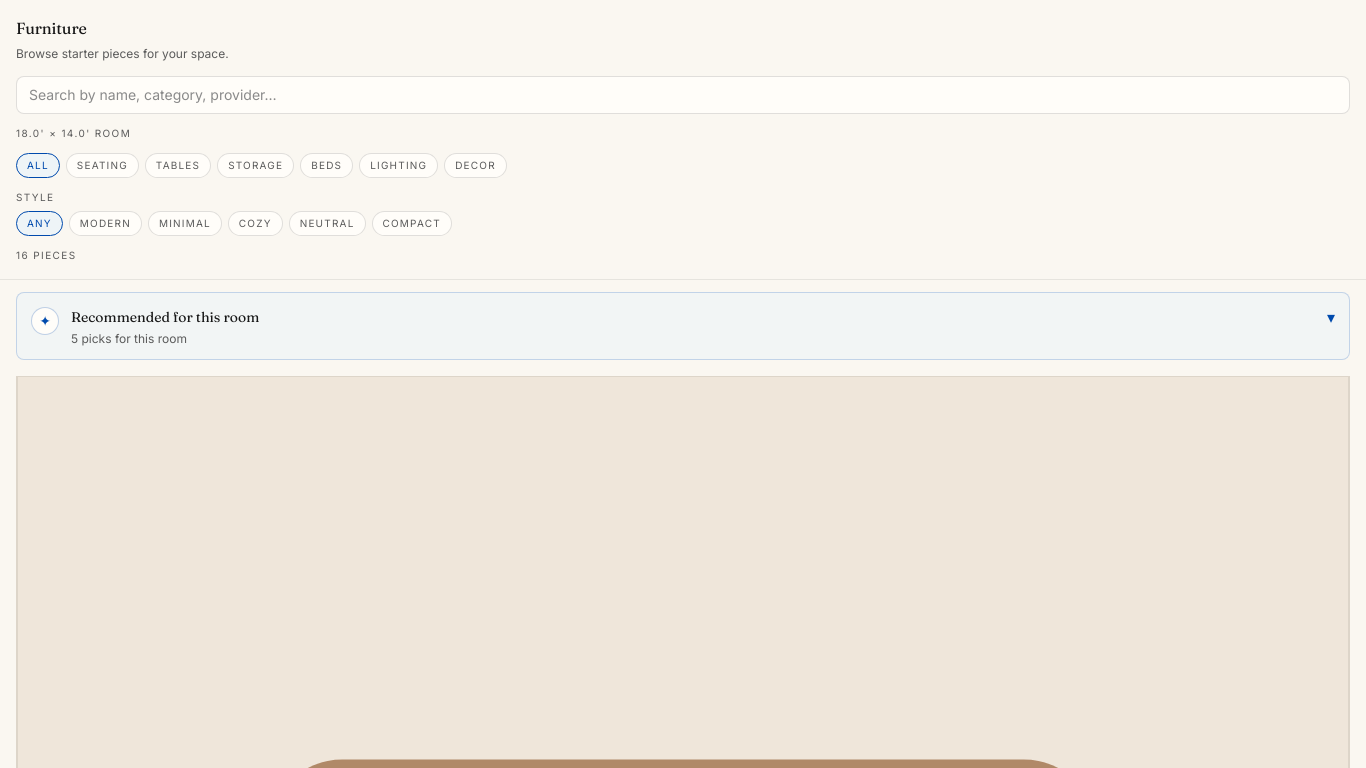
Test case: FurnitureCatalogPanel › Recommended for this room section › shows reasons under recommended items when expanded
Click the button "Storage" at [256, 165], box [217,152,294,178]
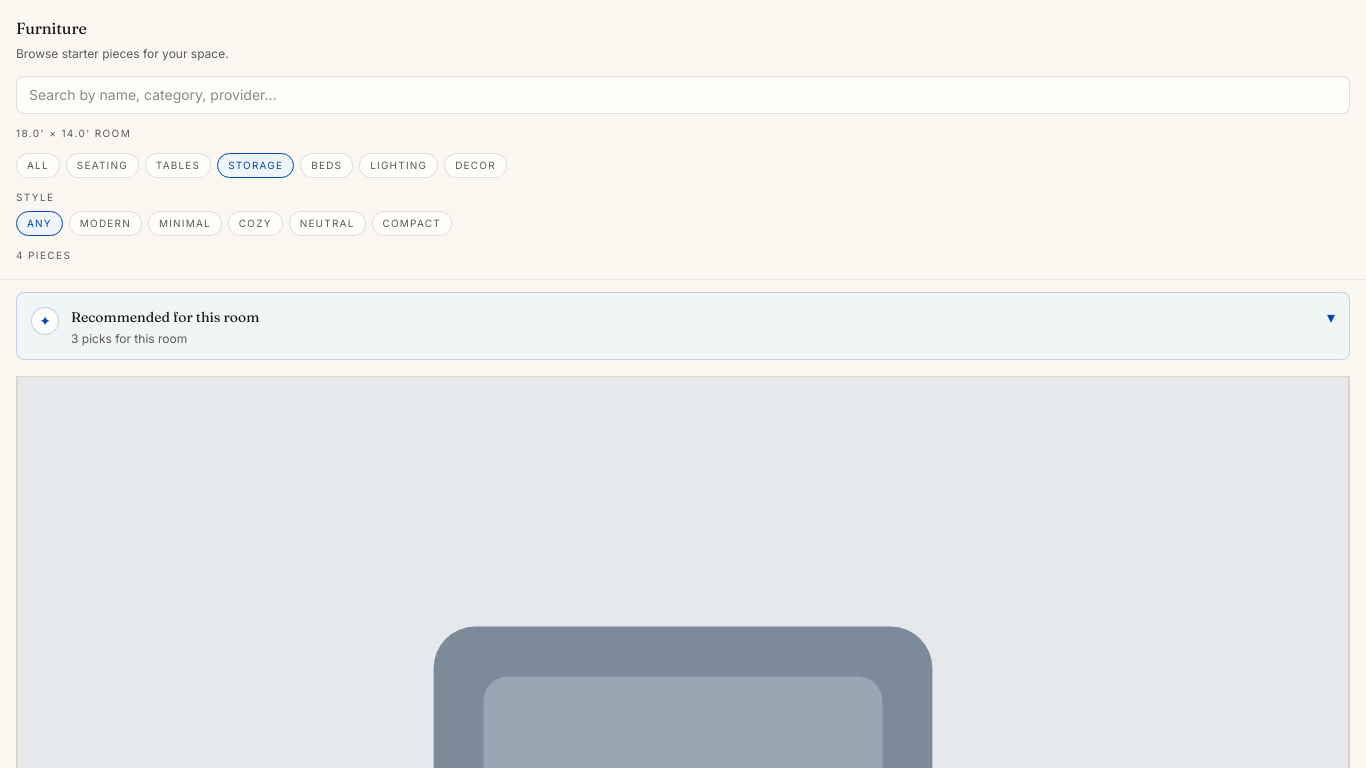
Click the button with test id "recommended-collapsible-trigger" at [165, 316], box [16,292,1350,360]
(page scrolled)
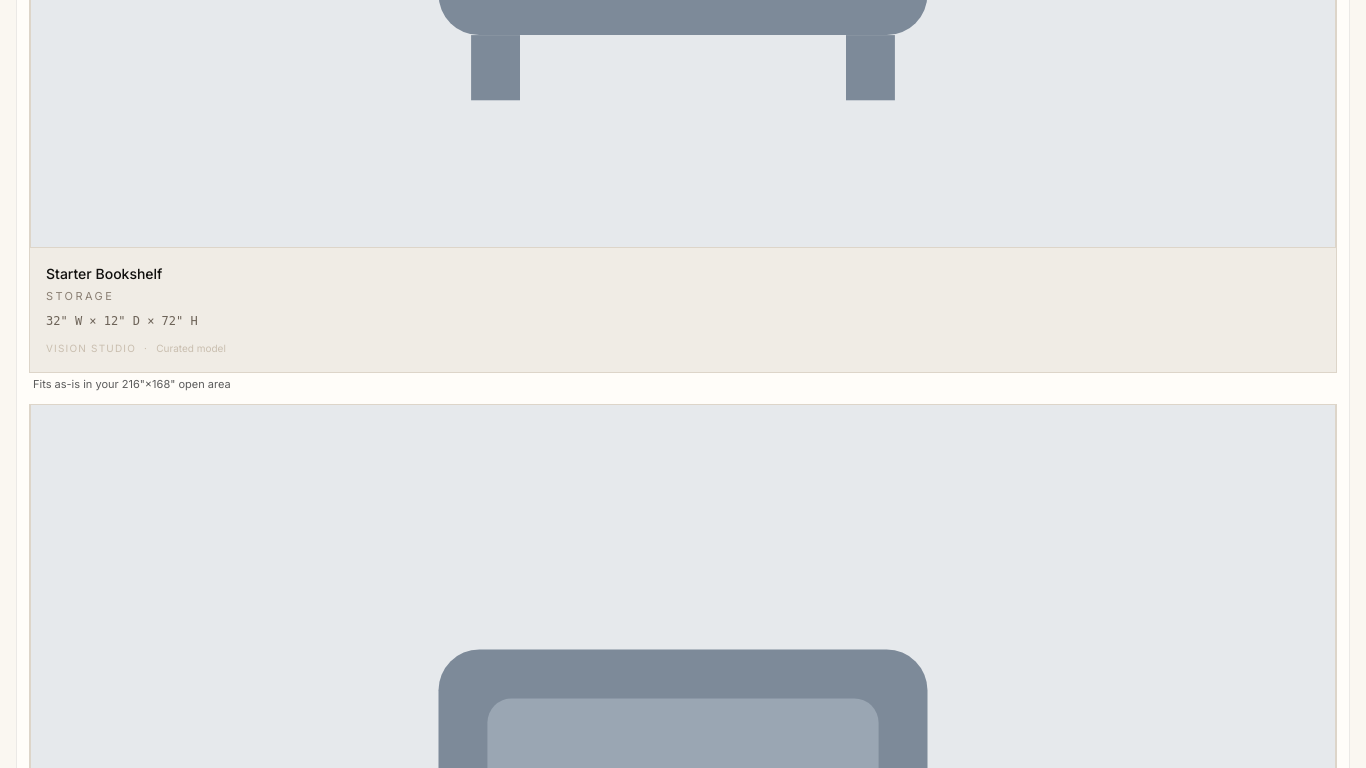
Result: the text with test id "recommendation-reason-starter-bookshelf" shows "Fits" at [33,376,231,390]
